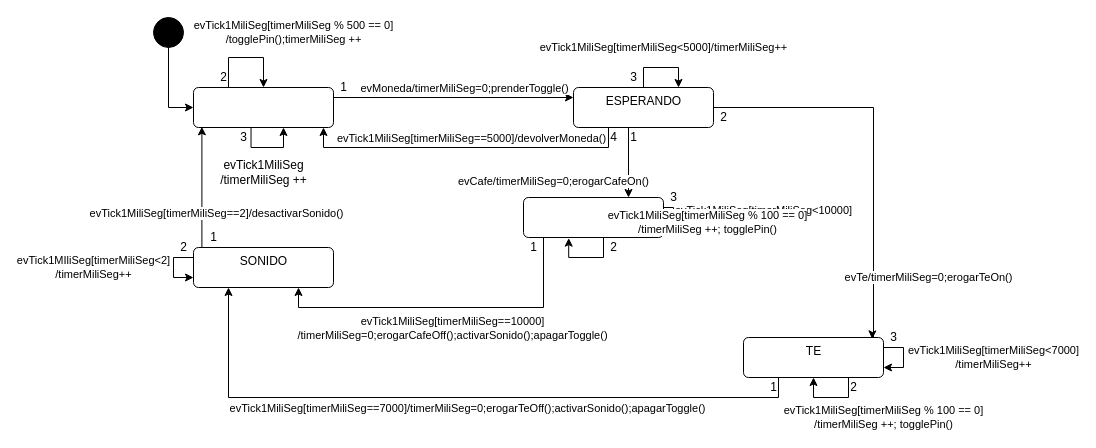
The diagram is 1096 pixels wide and 448 high, and some of its shapes have lost their labels. Here are the shapes that lost their labels. From the top down, the box of each, then its label:
(192, 86, 334, 128): REPOSO
(522, 196, 664, 238): CAFE
